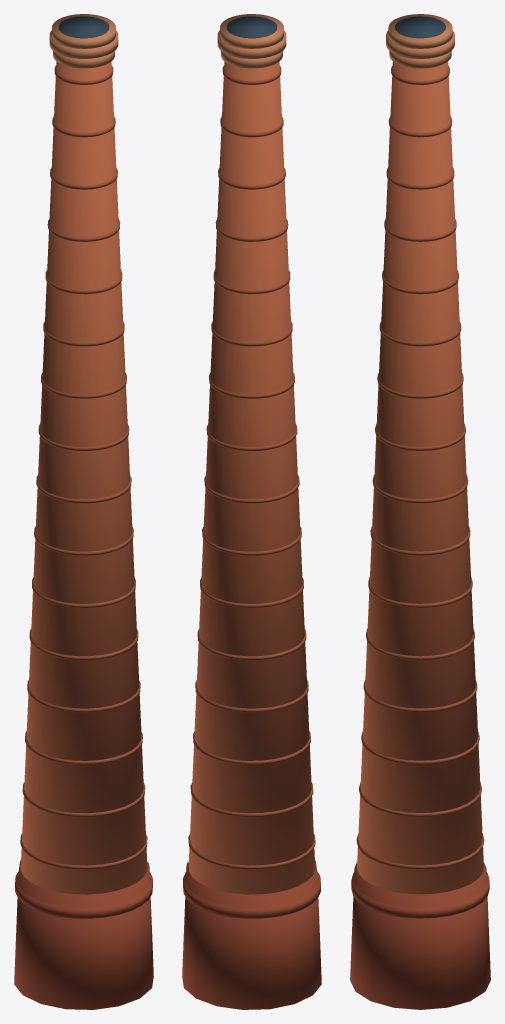
The model's file is tapered-chimney.glb.
3 views of the same model, side by side, from view 1: azimuth 30°, elevation 25°; view 2: azimuth 150°, elevation 25°; view 3: azimuth 270°, elevation 25° (orthographic).
Parts seen in each view (by area): view 1: tapered-chimney; view 2: tapered-chimney; view 3: tapered-chimney.
Boxes of the visible parts, left/top/right/bottom form: tapered-chimney: left=14, top=14, right=153, bottom=1009; tapered-chimney: left=182, top=14, right=321, bottom=1009; tapered-chimney: left=350, top=14, right=490, bottom=1009.
Size of the model in its own units: 4.08 by 30.45 by 4.08.
